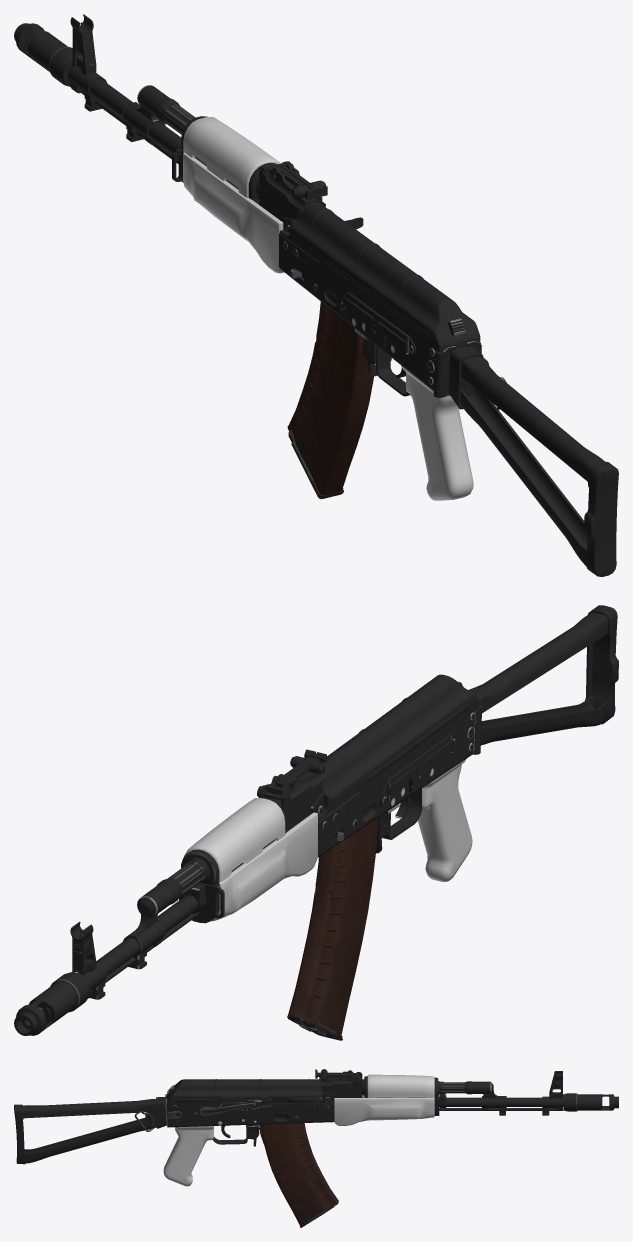
The picture shows the model from 3 angles, top to bottom: view 1: azimuth 30°, elevation 25°; view 2: azimuth 150°, elevation 25°; view 3: azimuth 270°, elevation 25°; orthographic projection. The views are drawn at different scales.
Parts seen in each view (by area): view 1: AKS-74_body, AK-74_polymer_mag30, AK-74_wooden_furniture.001, AK-74_grip.002; view 2: AKS-74_body, AK-74_polymer_mag30, AK-74_wooden_furniture.001, AK-74_grip.002; view 3: AKS-74_body, AK-74_polymer_mag30, AK-74_wooden_furniture.001, AK-74_grip.002.
Boxes of the visible parts, box(x1,y1,x2,y2) form: AKS-74_body: box(14, 14, 618, 576); AK-74_polymer_mag30: box(287, 301, 373, 499); AK-74_wooden_furniture.001: box(183, 117, 284, 273); AK-74_grip.002: box(401, 365, 473, 500); AKS-74_body: box(14, 605, 618, 1035); AK-74_polymer_mag30: box(287, 818, 378, 1040); AK-74_wooden_furniture.001: box(184, 798, 317, 921); AK-74_grip.002: box(417, 759, 472, 881); AKS-74_body: box(14, 1069, 618, 1164); AK-74_polymer_mag30: box(259, 1123, 338, 1227); AK-74_wooden_furniture.001: box(334, 1074, 434, 1125); AK-74_grip.002: box(163, 1126, 213, 1186).
Bounding box in the file's own units: 0.0689 × 0.2612 × 0.9316.
